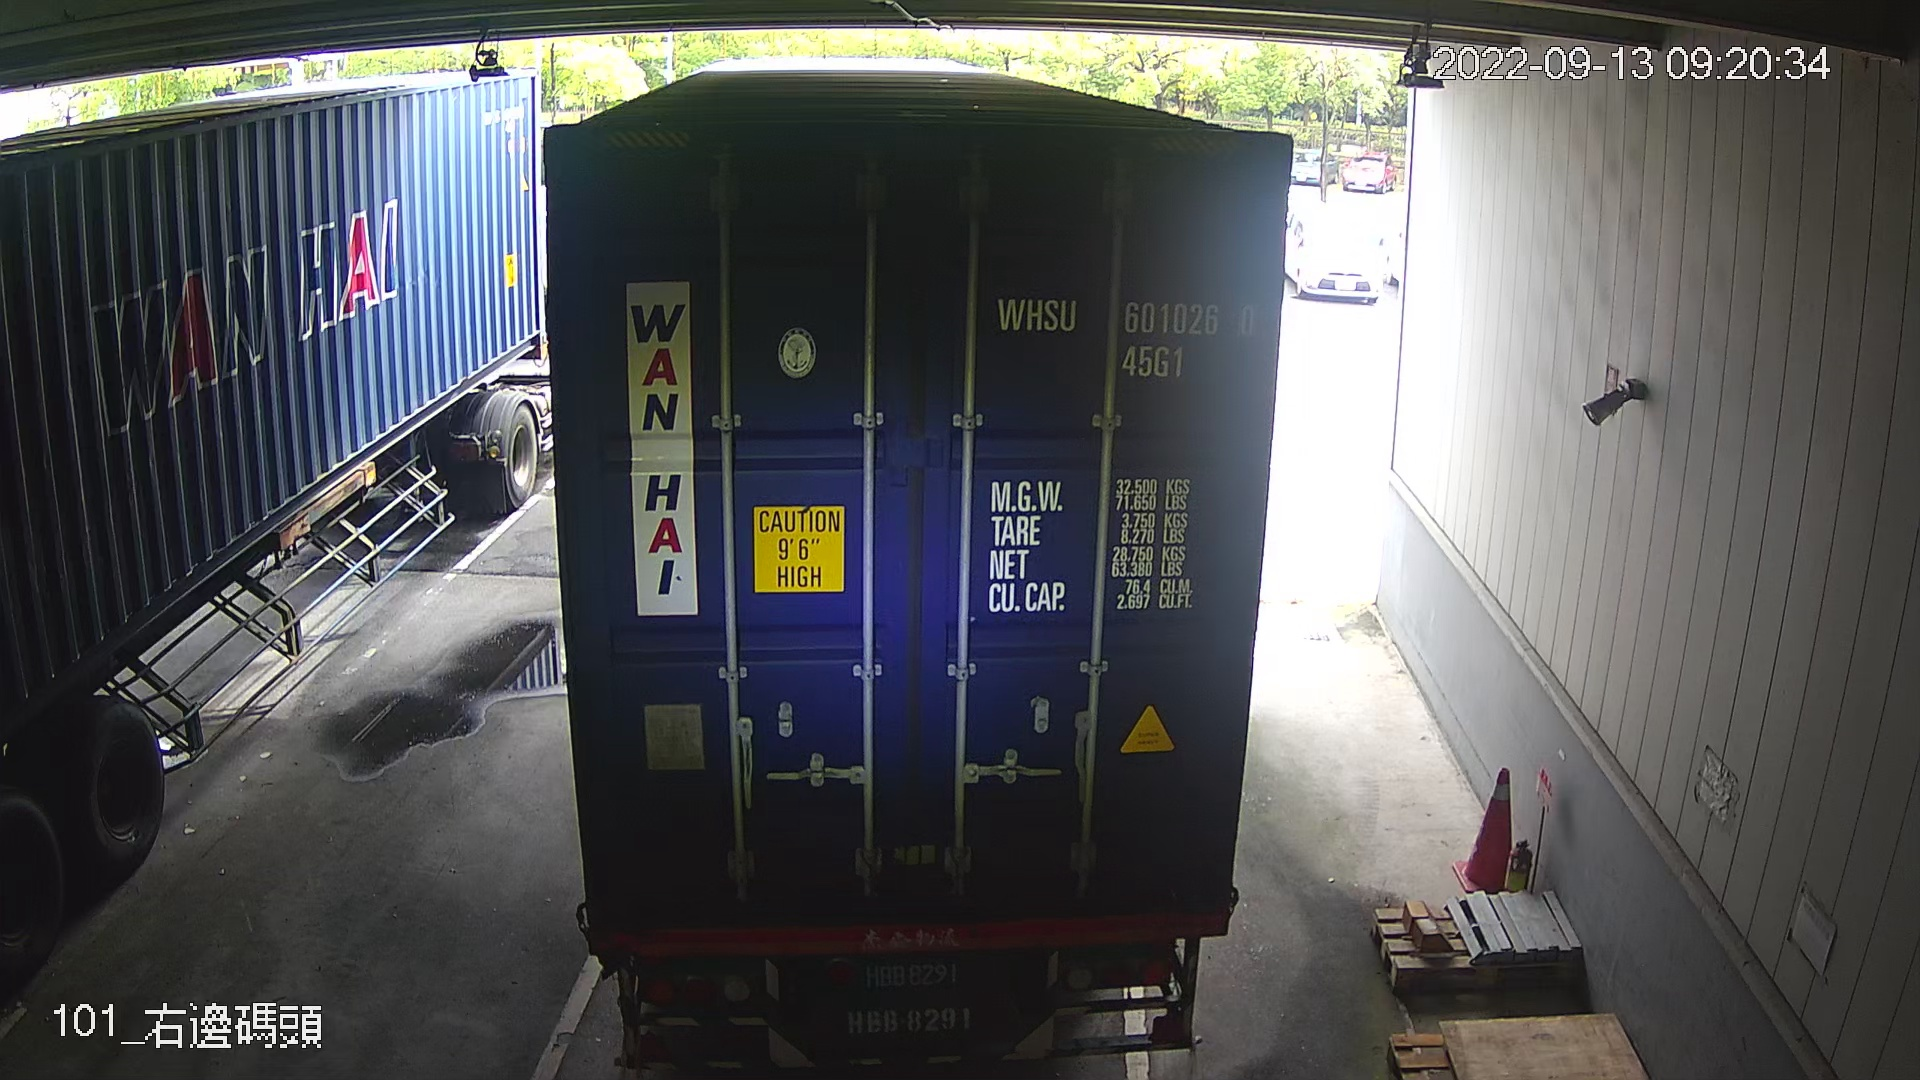container: (975, 282, 1267, 388)
